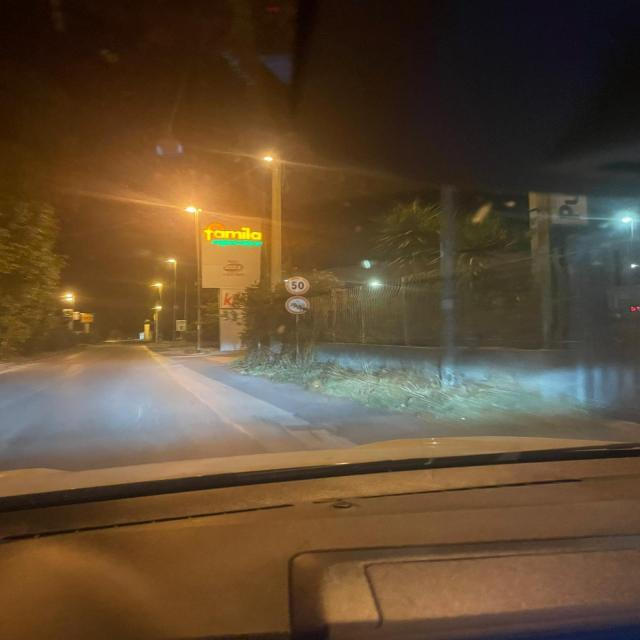forb_overtake: (286, 297, 311, 315)
forb_speed_over_50: (285, 277, 312, 296)
